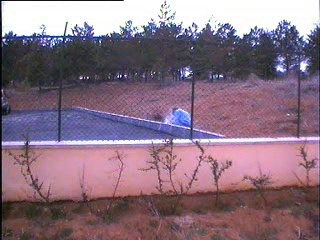smoke: (163, 105, 176, 124)
